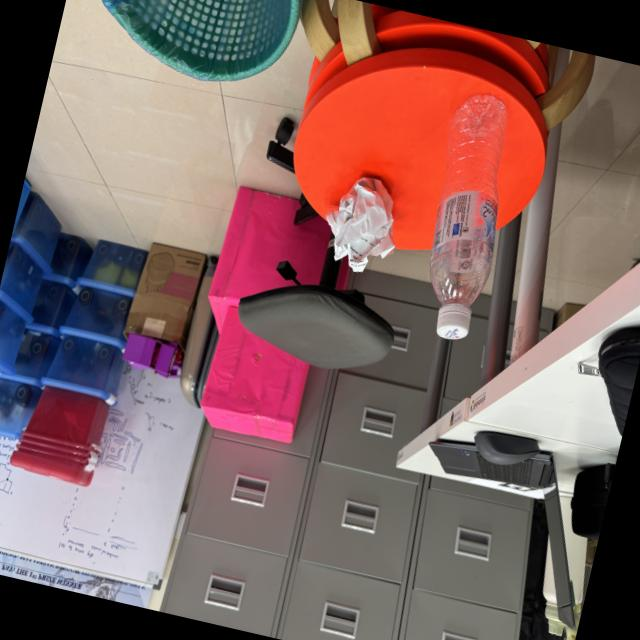crumpled_paper: (306, 160, 414, 288)
plastic_bottle: (396, 82, 535, 356)
